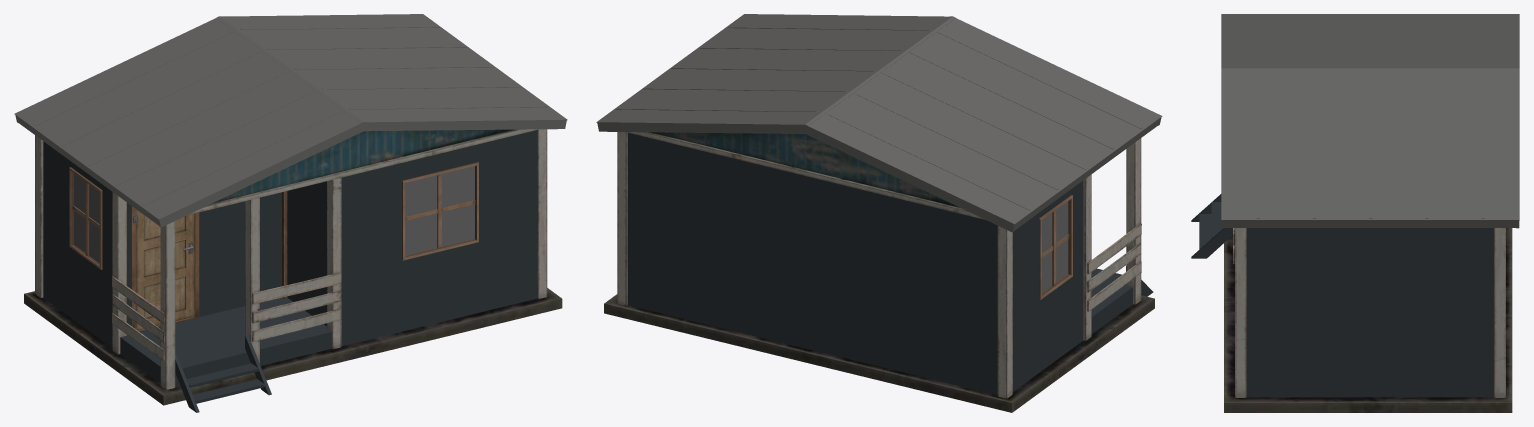
File: shed.lod0.glb
3 views of the same model, side by side, from view 1: azimuth 30°, elevation 25°; view 2: azimuth 150°, elevation 25°; view 3: azimuth 270°, elevation 25° (orthographic). The views are drawn at different scales.
Parts seen in each view (by area): view 1: Main_Exterior1_0, Main_Exterior2_0, Door_Exterior4_0; view 2: Main_Exterior1_0, Main_Exterior2_0, Door_Exterior4_0; view 3: Main_Exterior1_0, Main_Exterior2_0.
Boxes of the visible parts, x1,y1,x2,y2 form: Main_Exterior1_0: [14, 14, 567, 412]; Main_Exterior2_0: [24, 129, 562, 405]; Door_Exterior4_0: [133, 129, 538, 330]; Main_Exterior1_0: [596, 14, 1162, 395]; Main_Exterior2_0: [604, 132, 1154, 412]; Door_Exterior4_0: [626, 132, 985, 219]; Main_Exterior1_0: [1191, 14, 1519, 397]; Main_Exterior2_0: [1224, 228, 1512, 412].
Size of the model in its own units: 6 by 3.31 by 4.04.
3 materials, 2 textured.
